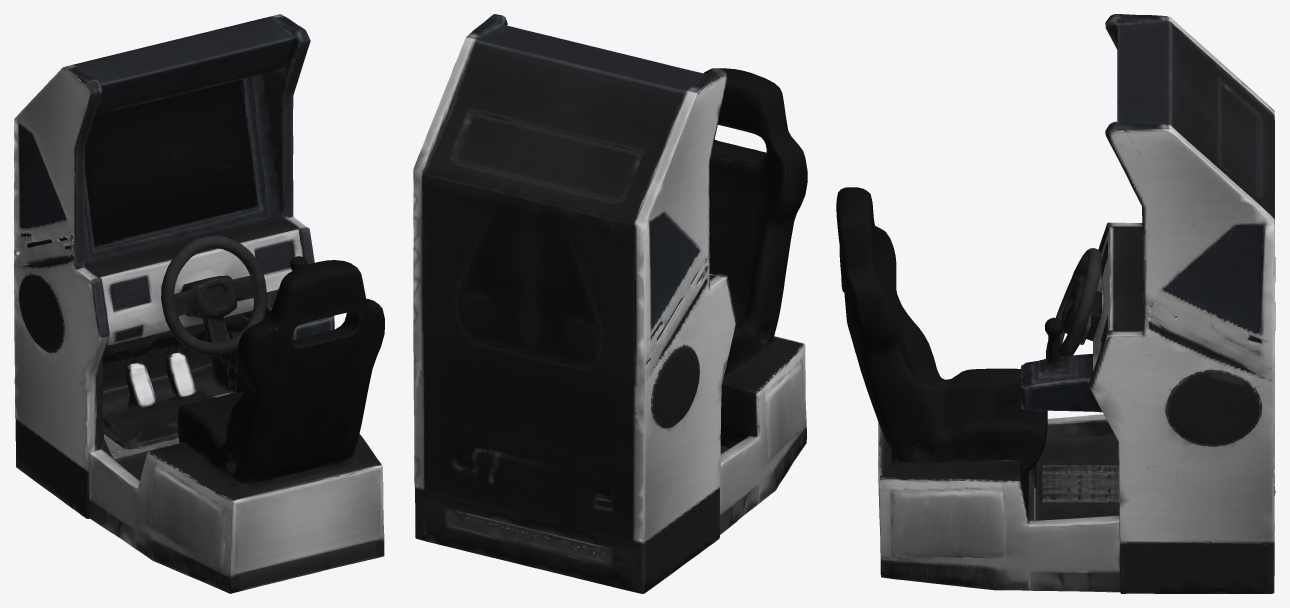
File: 17_arcade_17_racer_black.glb
The picture shows the model from 3 angles, left to right: view 1: azimuth 30°, elevation 25°; view 2: azimuth 150°, elevation 25°; view 3: azimuth 270°, elevation 25°; orthographic projection. The views are drawn at different scales.
Parts seen in each view (by area): view 1: world; view 2: world; view 3: world.
Boxes of the visible parts, box(x1,y1,x2,y2) form: world: box(14, 14, 384, 593); world: box(413, 14, 807, 593); world: box(836, 14, 1275, 593).
Bounding box in the file's own units: 0.5286 × 1 × 0.8527.
Materials: 1 (1 with a texture image).
